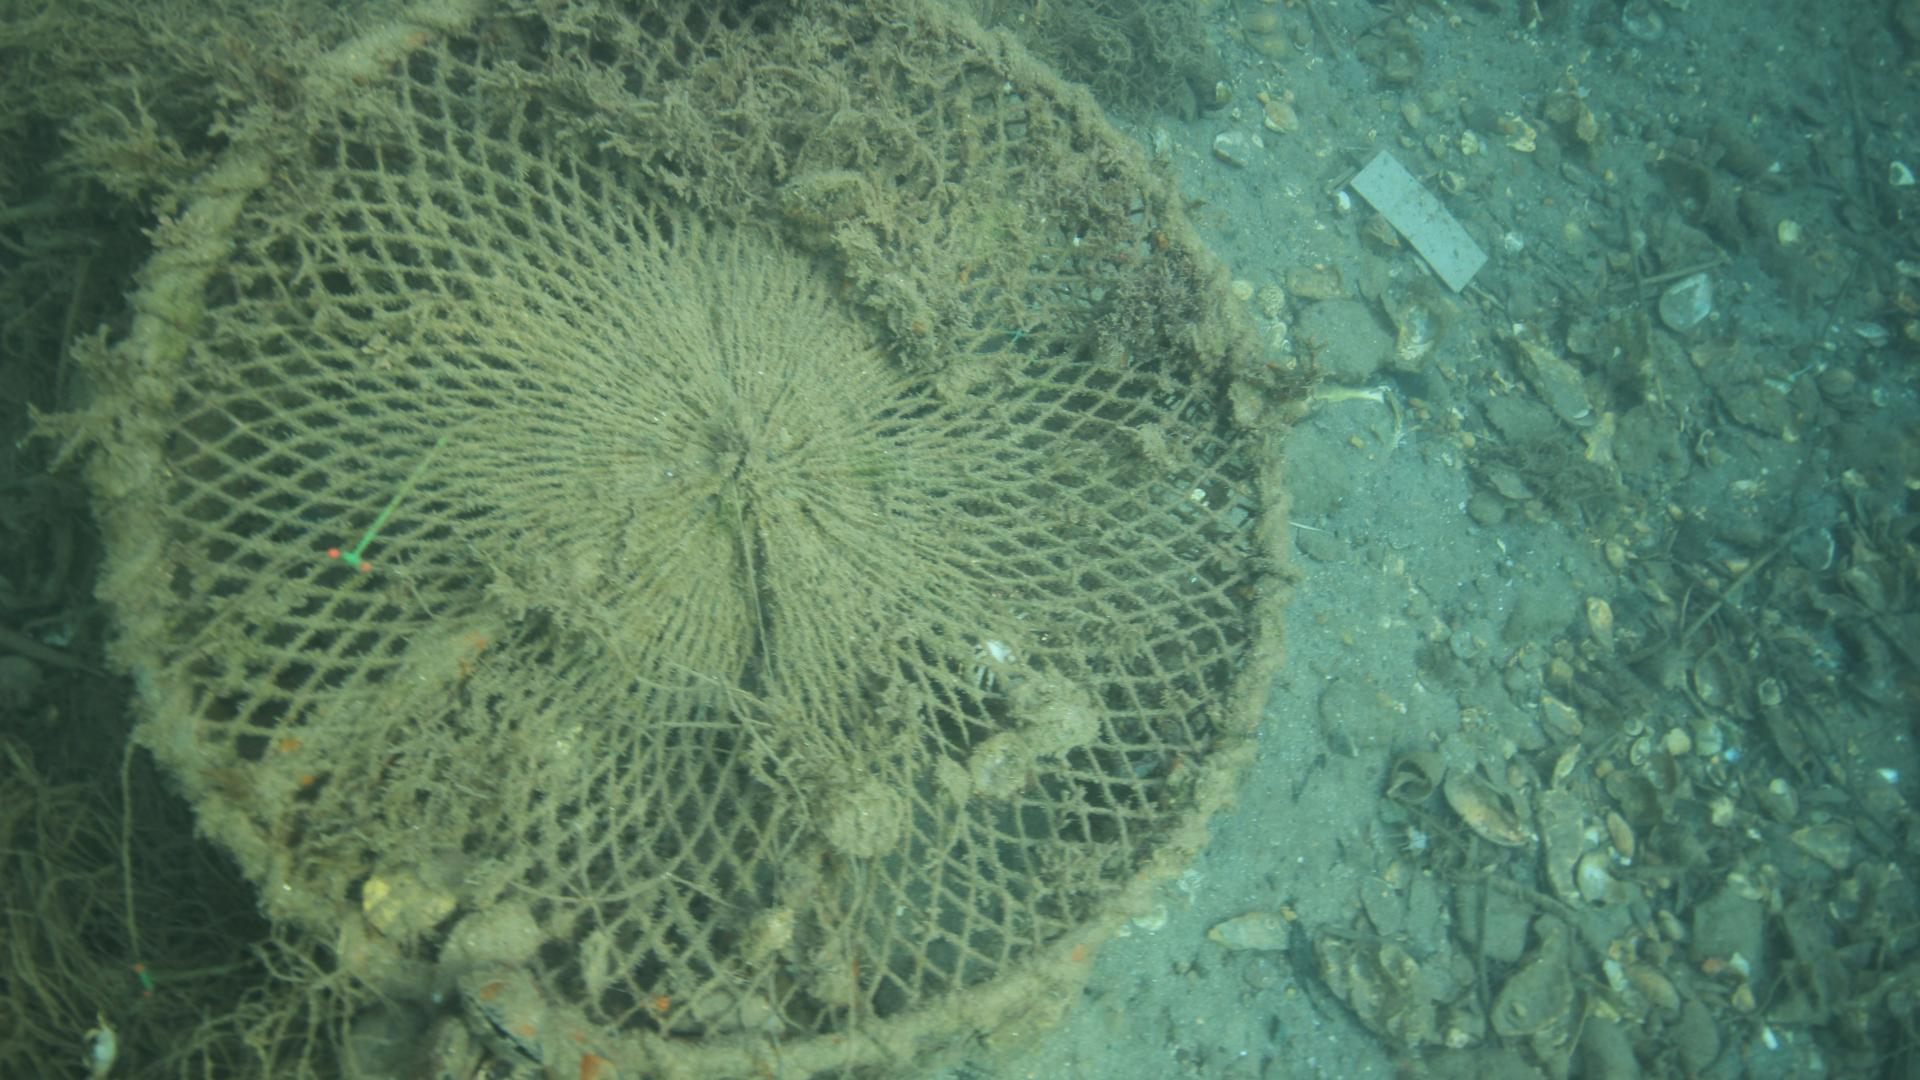circular fish trap: (82, 0, 1308, 1080)
